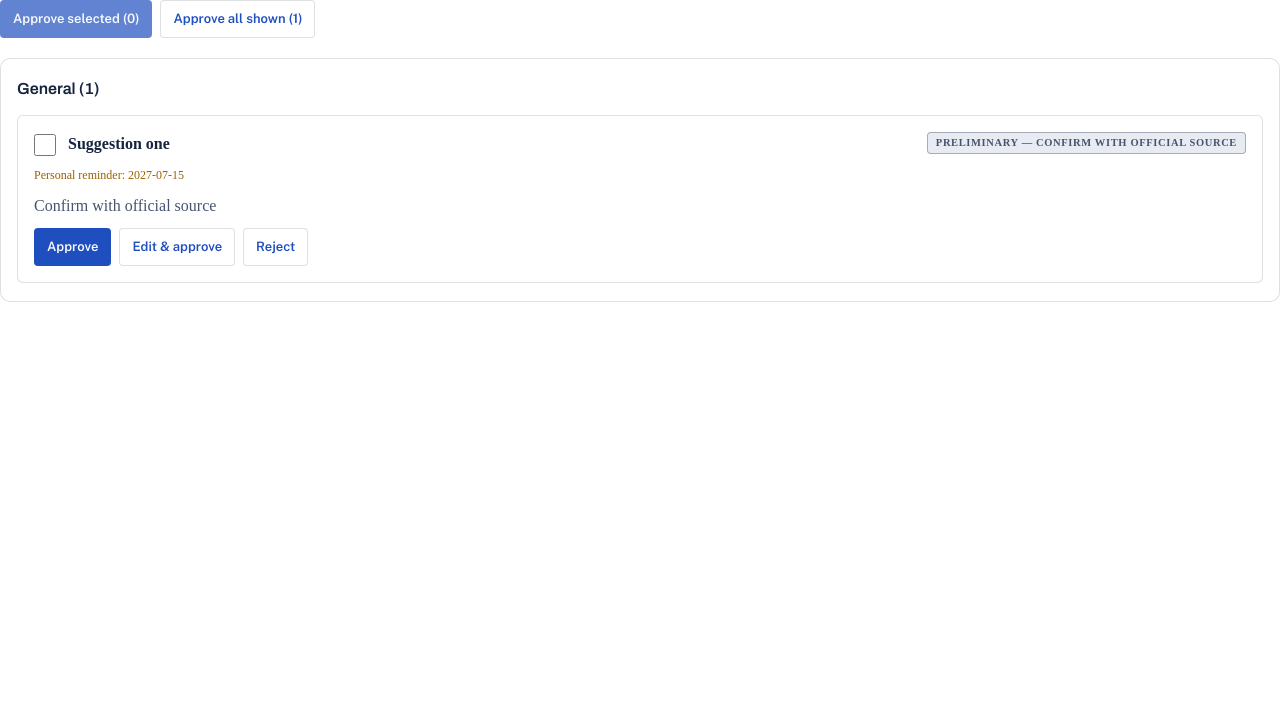
Scenario: retains pending proposals and confirmation after an approval error
Click the button "Approve".
click(73, 247)  # box [34, 228, 111, 266]
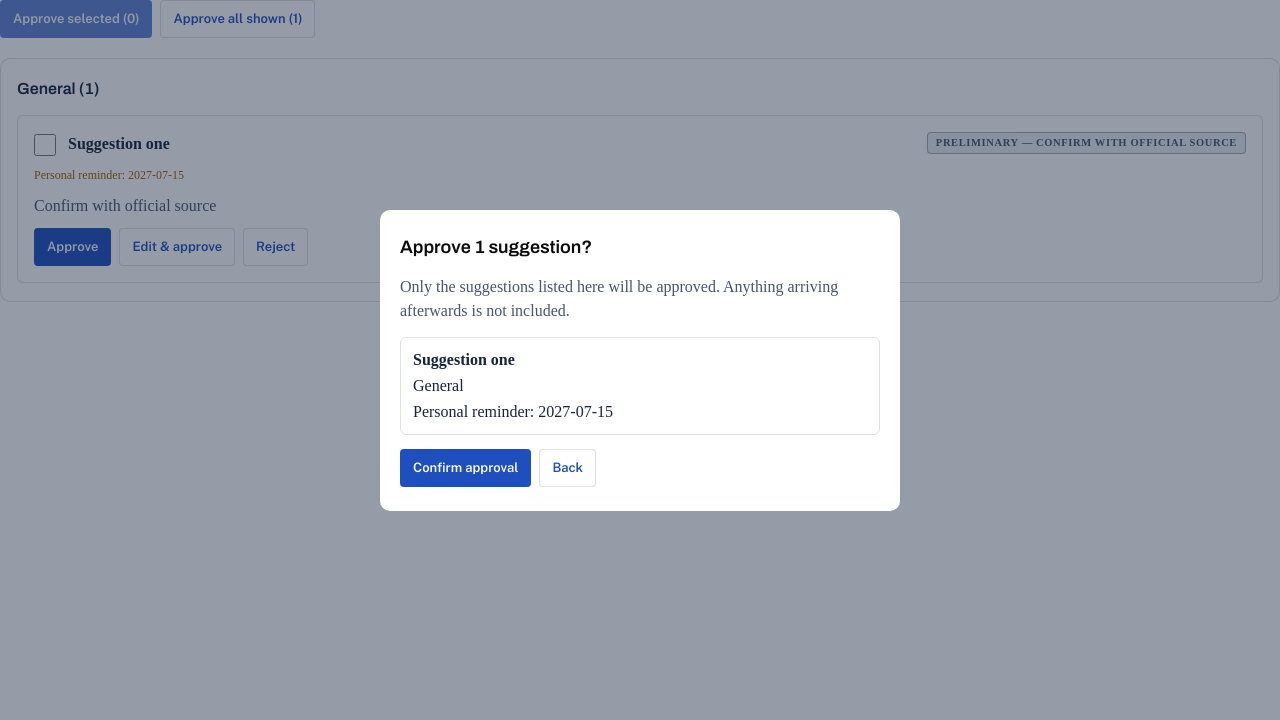
Click the button "Confirm approval".
click(466, 468)  # box [400, 448, 532, 486]
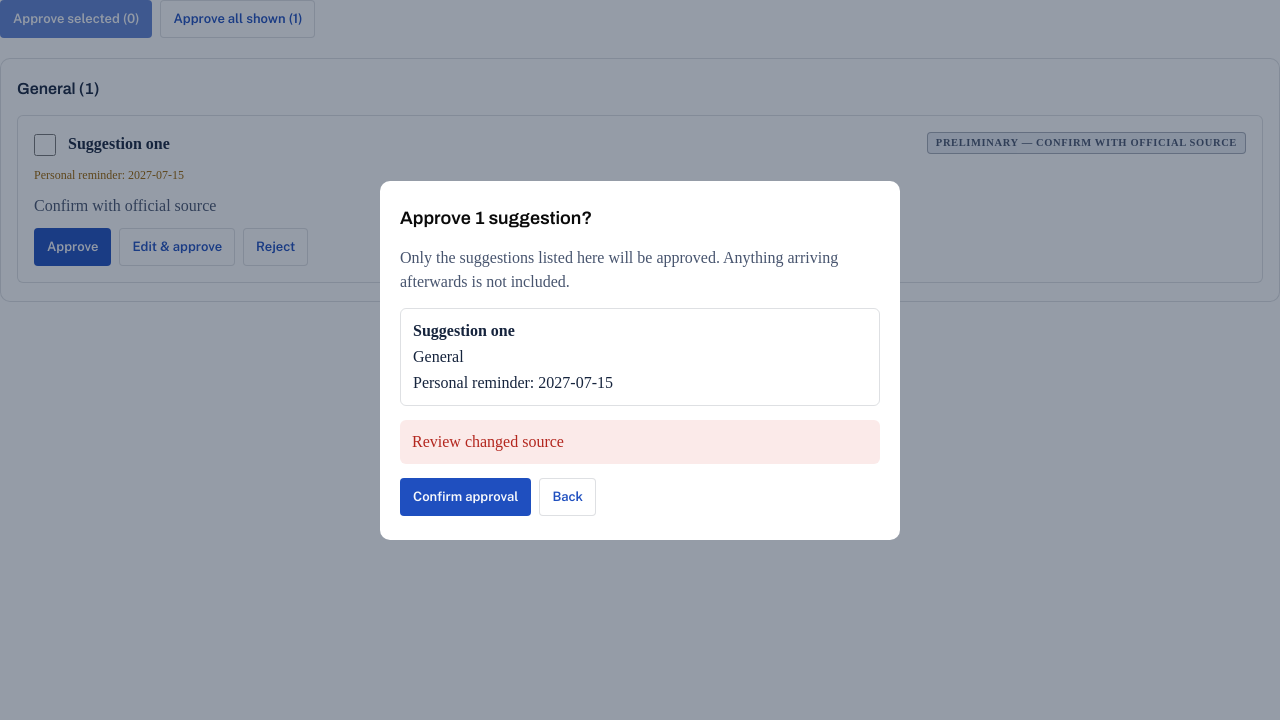
Check: the button "Confirm approval" is enabled, box [400, 478, 532, 516]
Check: the dialog named "Confirm approval" shows "Review changed source", box [412, 432, 564, 450]
